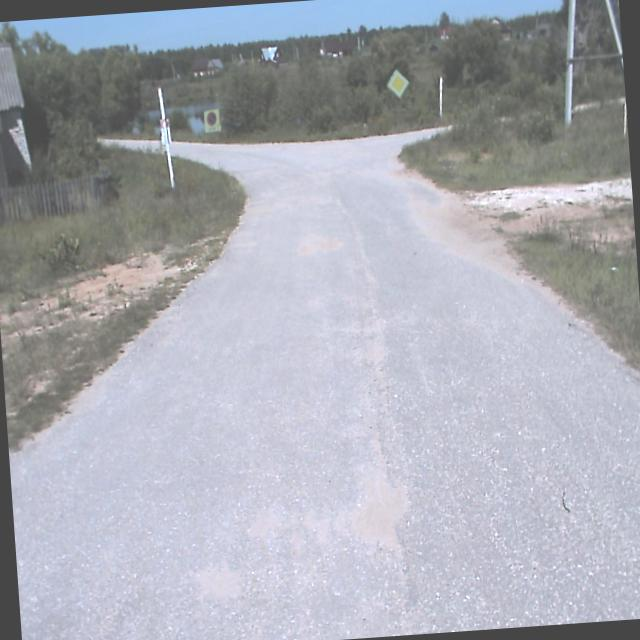road: (8, 134, 640, 640)
